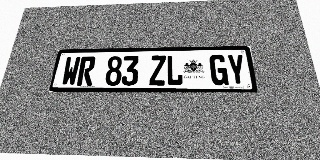3: (121, 56, 139, 86)
8: (105, 56, 123, 86)
G: (209, 54, 229, 85)
L: (166, 55, 183, 86)
R: (76, 56, 96, 86)
W: (61, 57, 81, 86)
Y: (226, 54, 247, 85)
Z: (149, 55, 166, 86)
